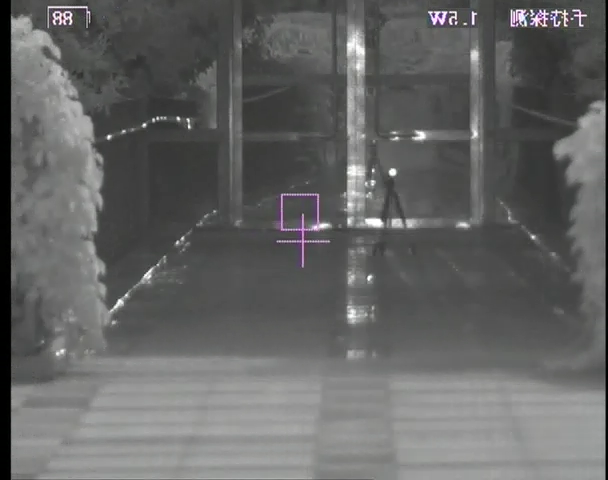my: (386, 166, 398, 179)
